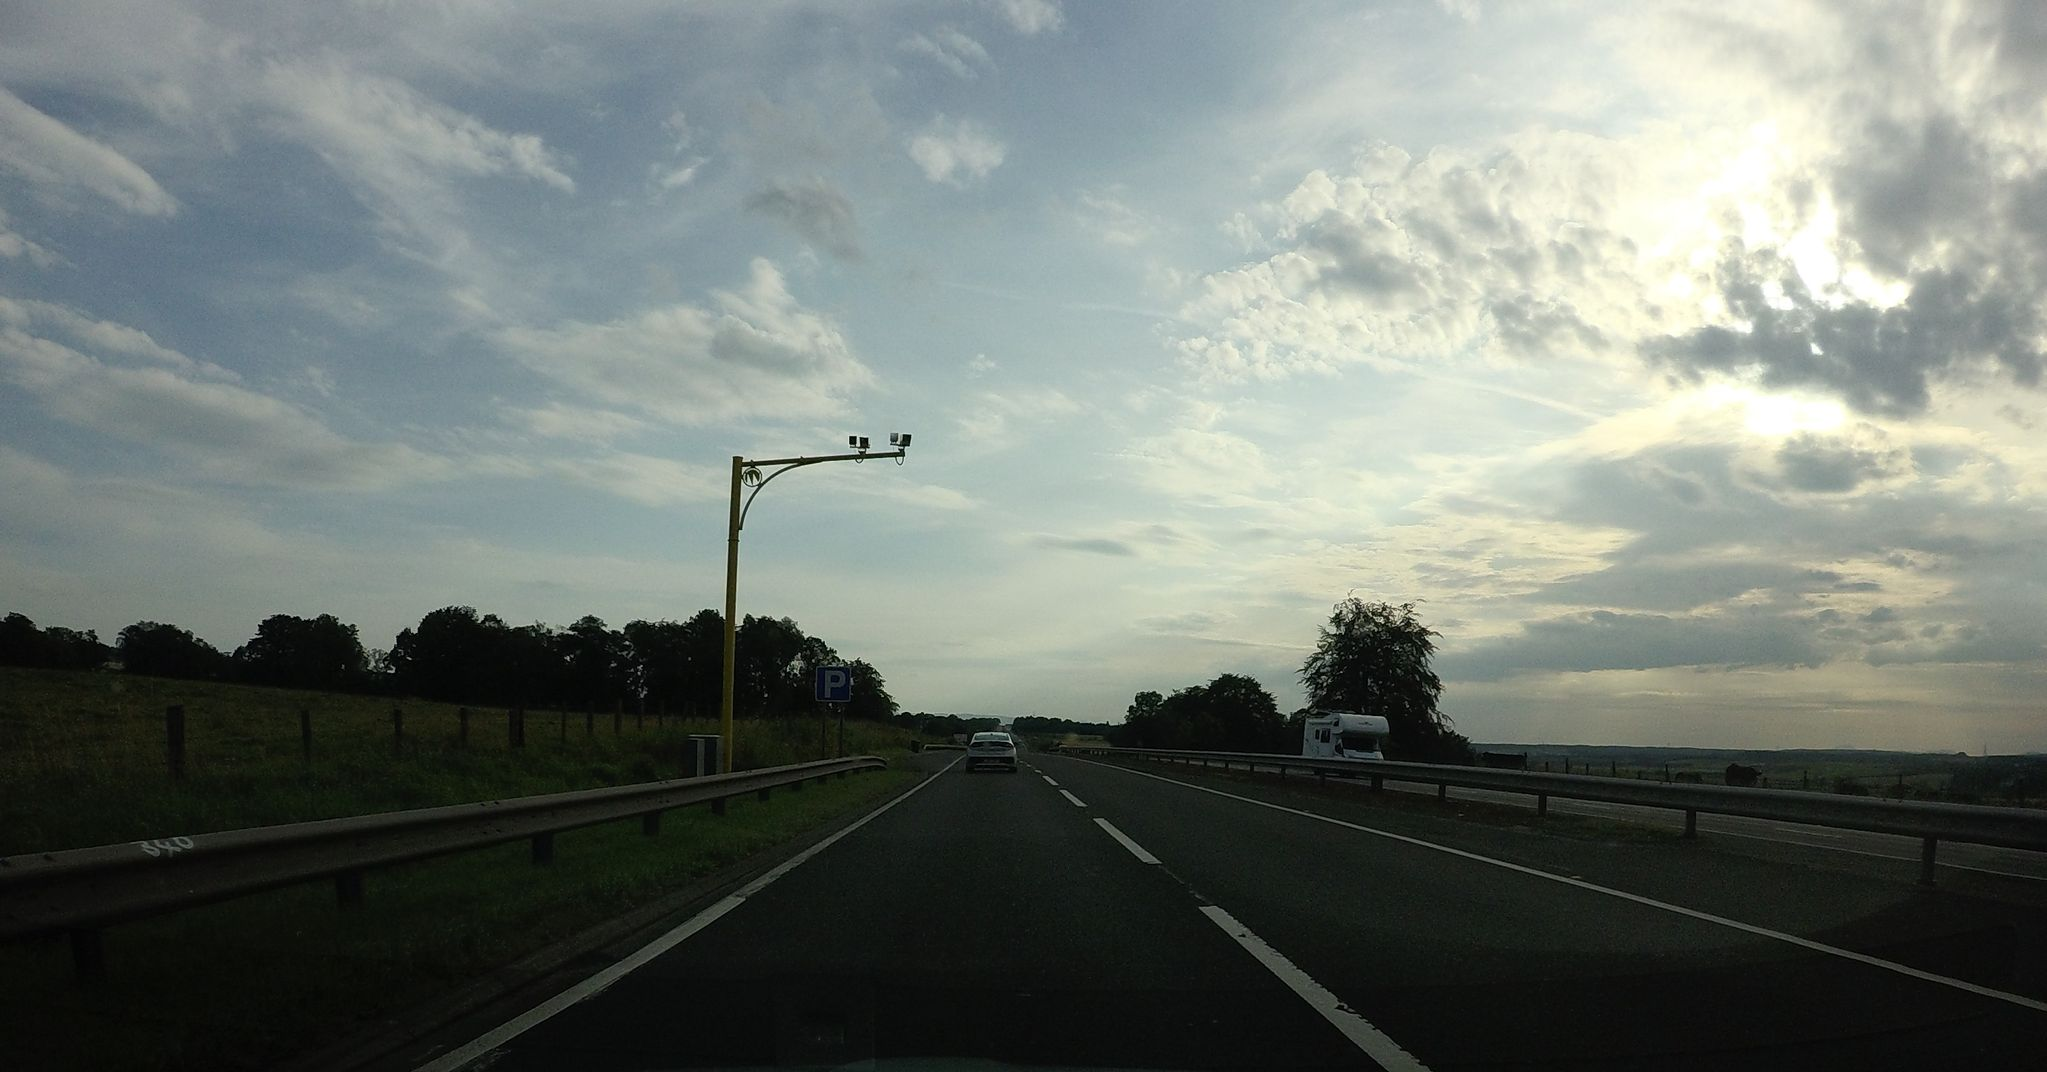car: (964, 731, 1017, 772)
truck: (1301, 712, 1390, 759)
